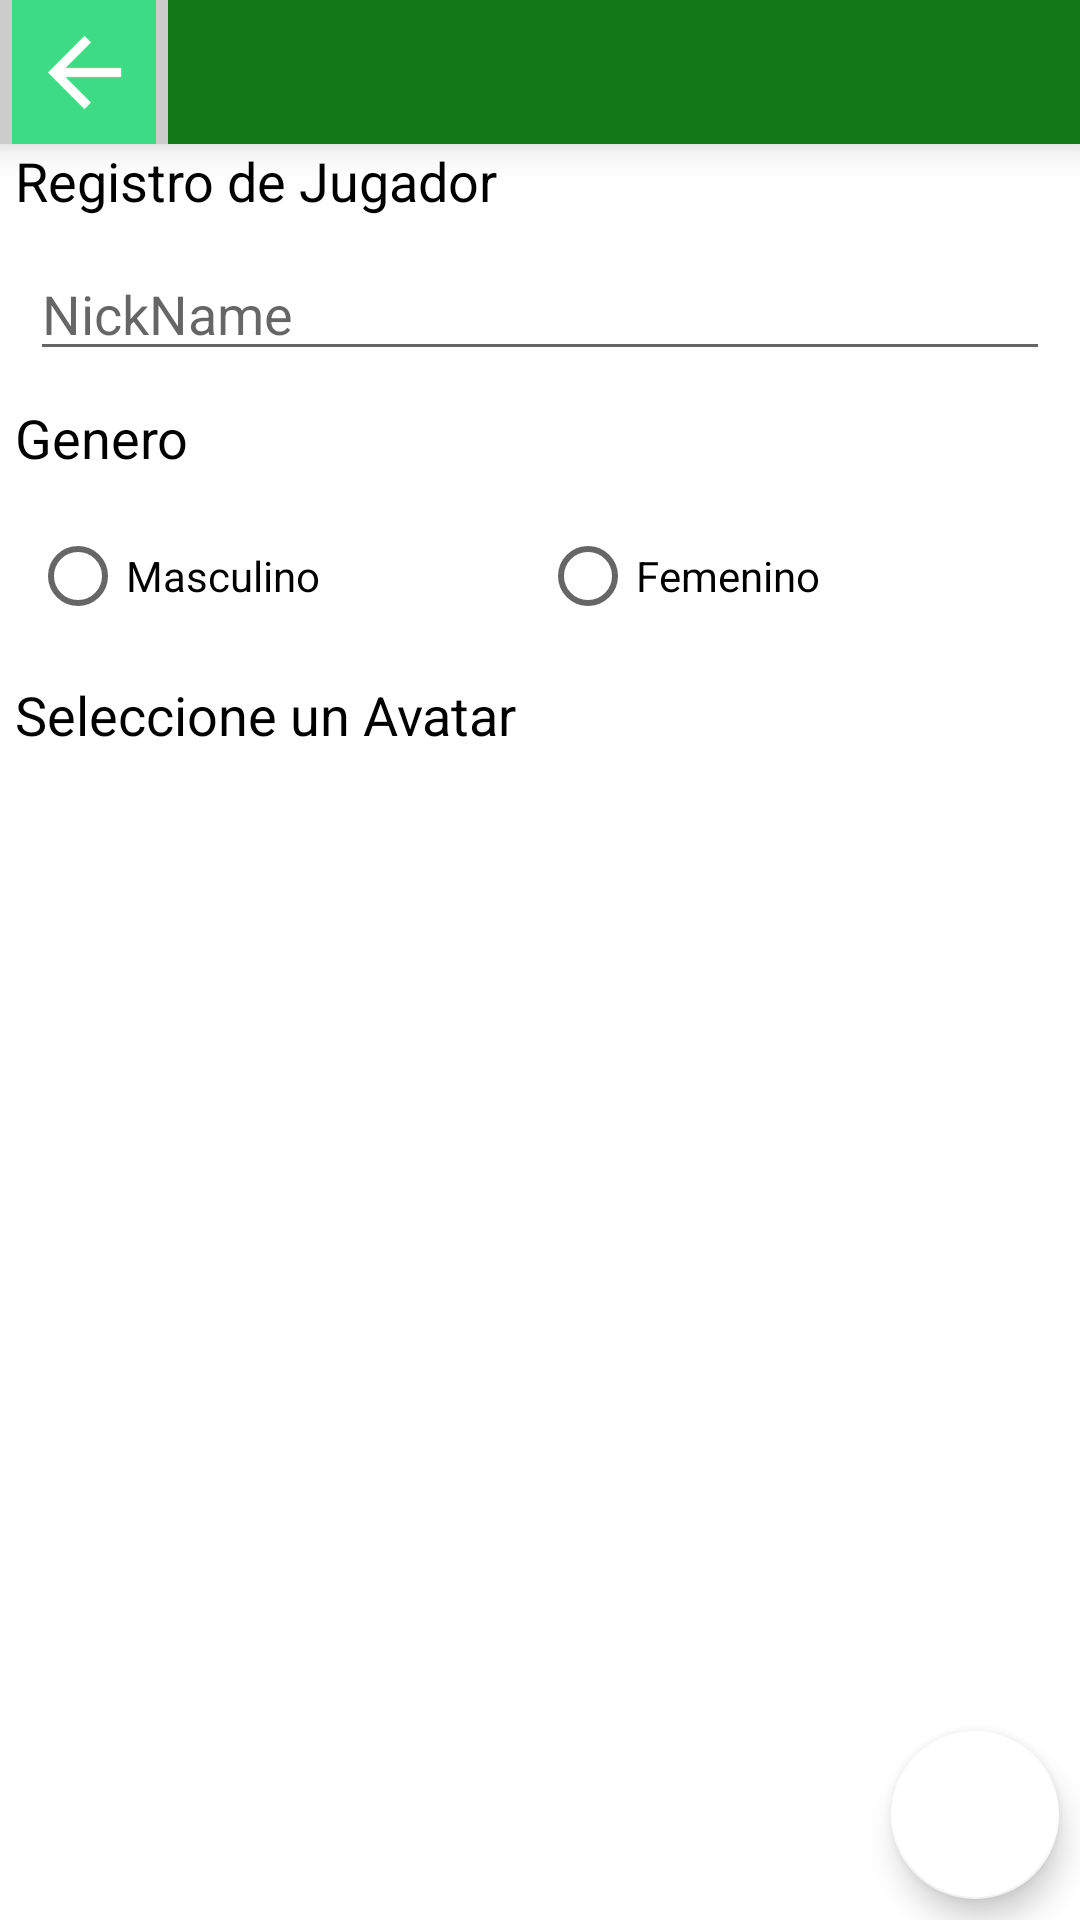

Named icons in this screenshot (1080 × 1920) and their centers, point (x, y):
atras: point (84, 72)
